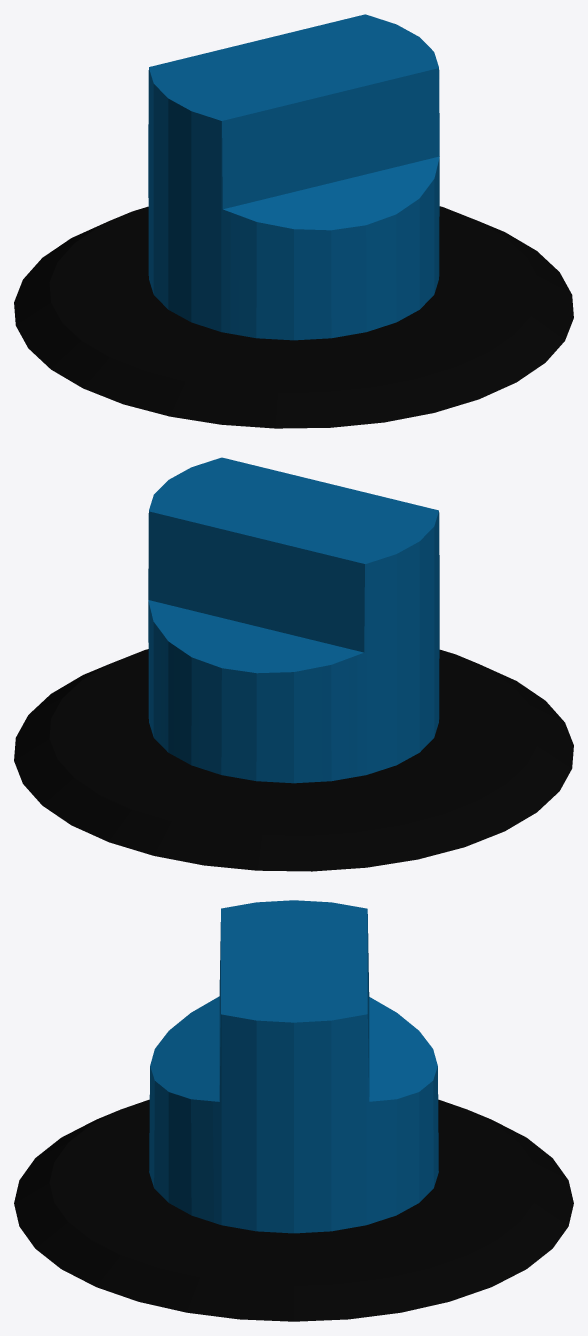
File: props.fbx_reg4.fbx
The picture shows the model from 3 angles, top to bottom: view 1: azimuth 30°, elevation 25°; view 2: azimuth 150°, elevation 25°; view 3: azimuth 270°, elevation 25°; orthographic projection.
Parts seen in each view (by area): view 1: Cylinder.013, Circle.029; view 2: Cylinder.013, Circle.029; view 3: Cylinder.013, Circle.029.
Boxes of the visible parts, x1,y1,x2,y2 form: Cylinder.013: (148,14,439,340); Circle.029: (14,206,573,428); Cylinder.013: (148,457,439,783); Circle.029: (14,649,573,871); Cylinder.013: (149,900,438,1233); Circle.029: (14,1099,573,1321).
Bounding box in the file's own units: 0.6411 × 0.3056 × 0.6411.
